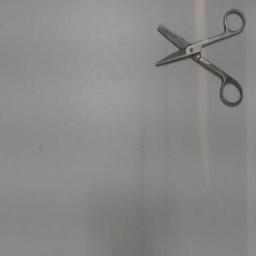Dressing Scissors: (148, 6, 248, 110)
